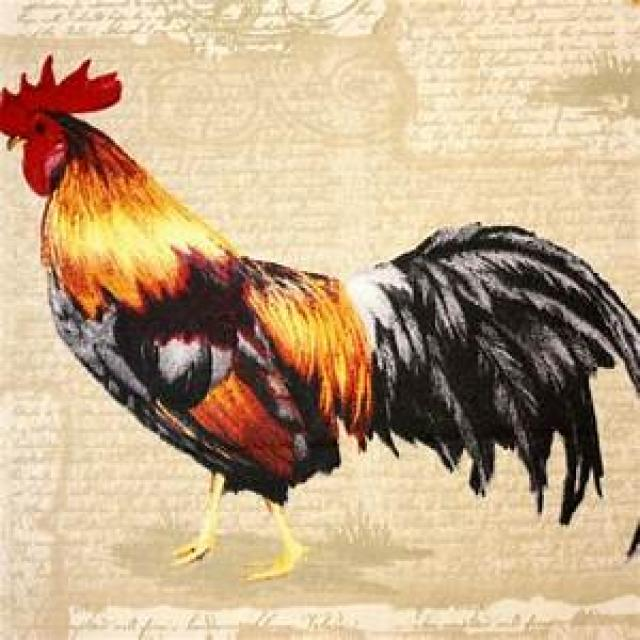hen: (0, 55, 640, 576)
